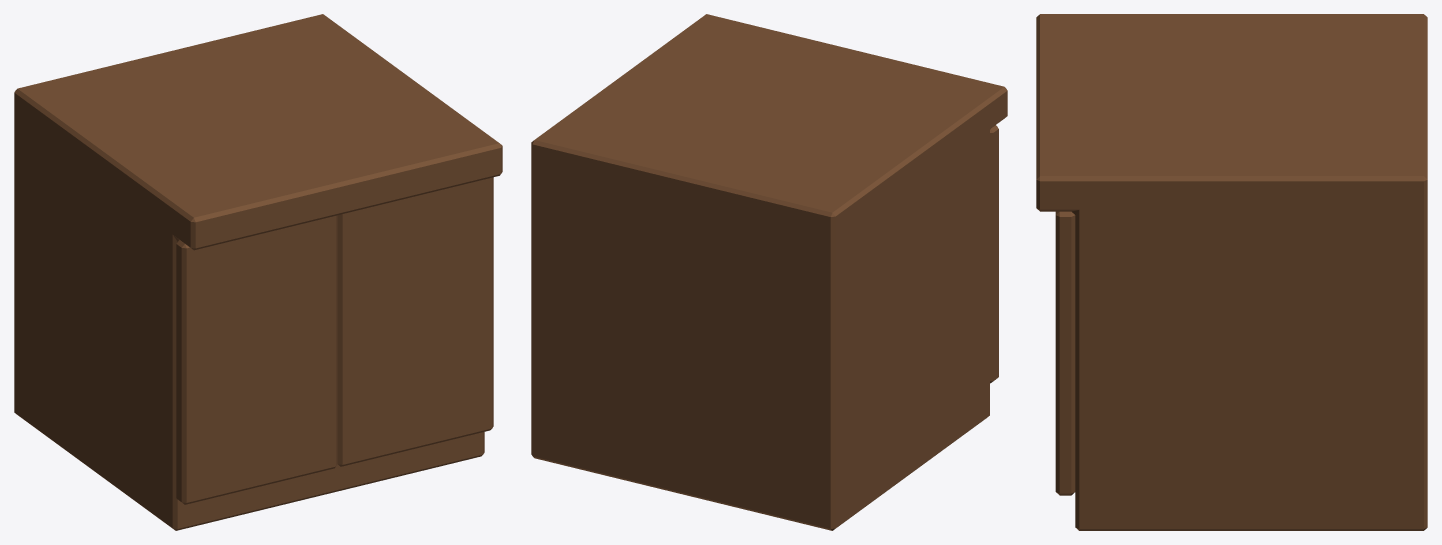
File: tmp_kitchencounter.fbx
3 renders of one model, left to right at view 1: azimuth 30°, elevation 25°; view 2: azimuth 150°, elevation 25°; view 3: azimuth 270°, elevation 25°, orthographic. The views are drawn at different scales.
Visible parts, largest first — view 1: Sink.002; view 2: Sink.002; view 3: Sink.002.
Boxes of the visible parts, left/top/right/bottom form: Sink.002: left=14, top=14, right=502, bottom=530; Sink.002: left=531, top=14, right=1007, bottom=530; Sink.002: left=1036, top=14, right=1427, bottom=530.
Size of the model in its own units: 100 by 100 by 100.
